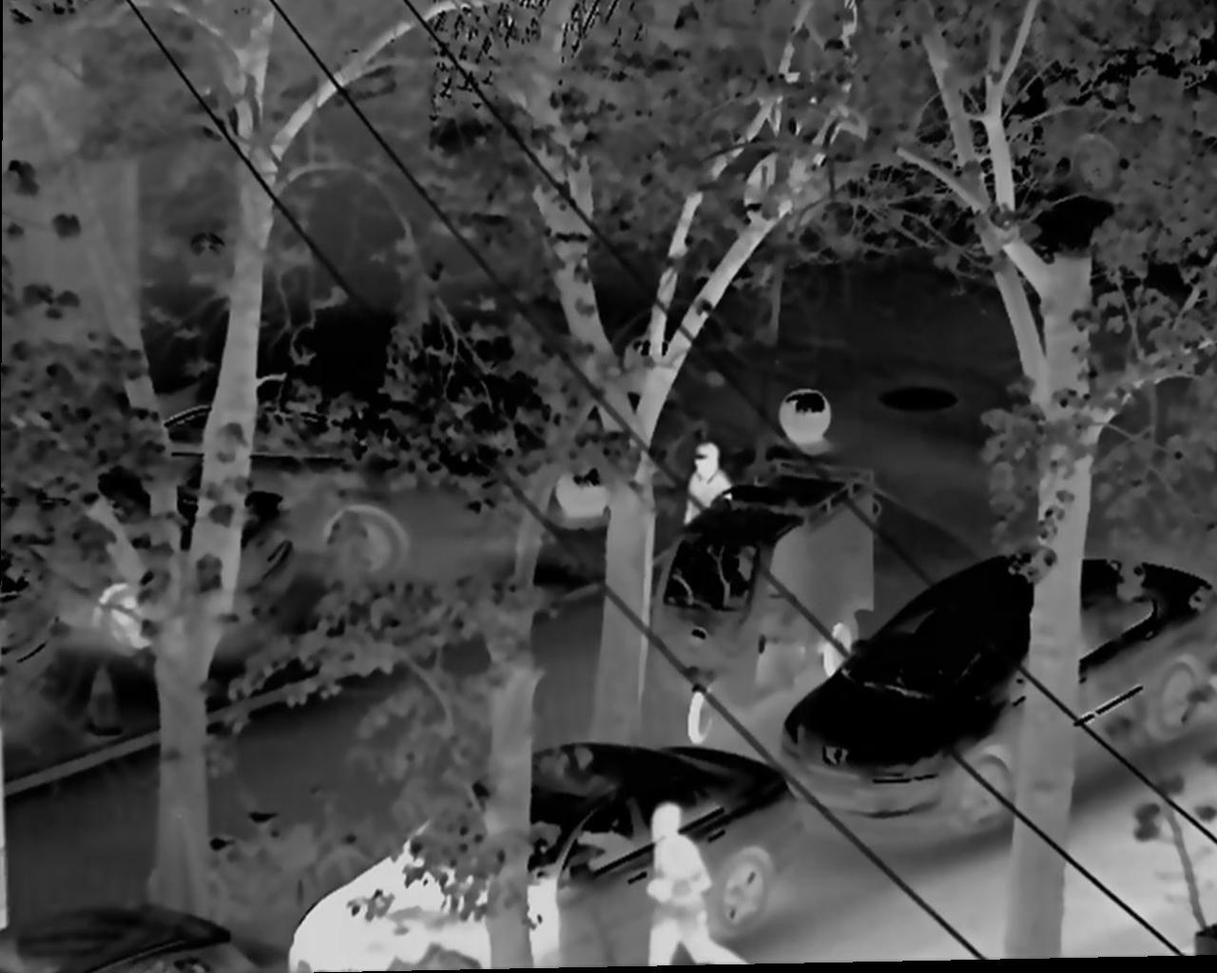person: (630, 792, 756, 971), (673, 441, 730, 563)
